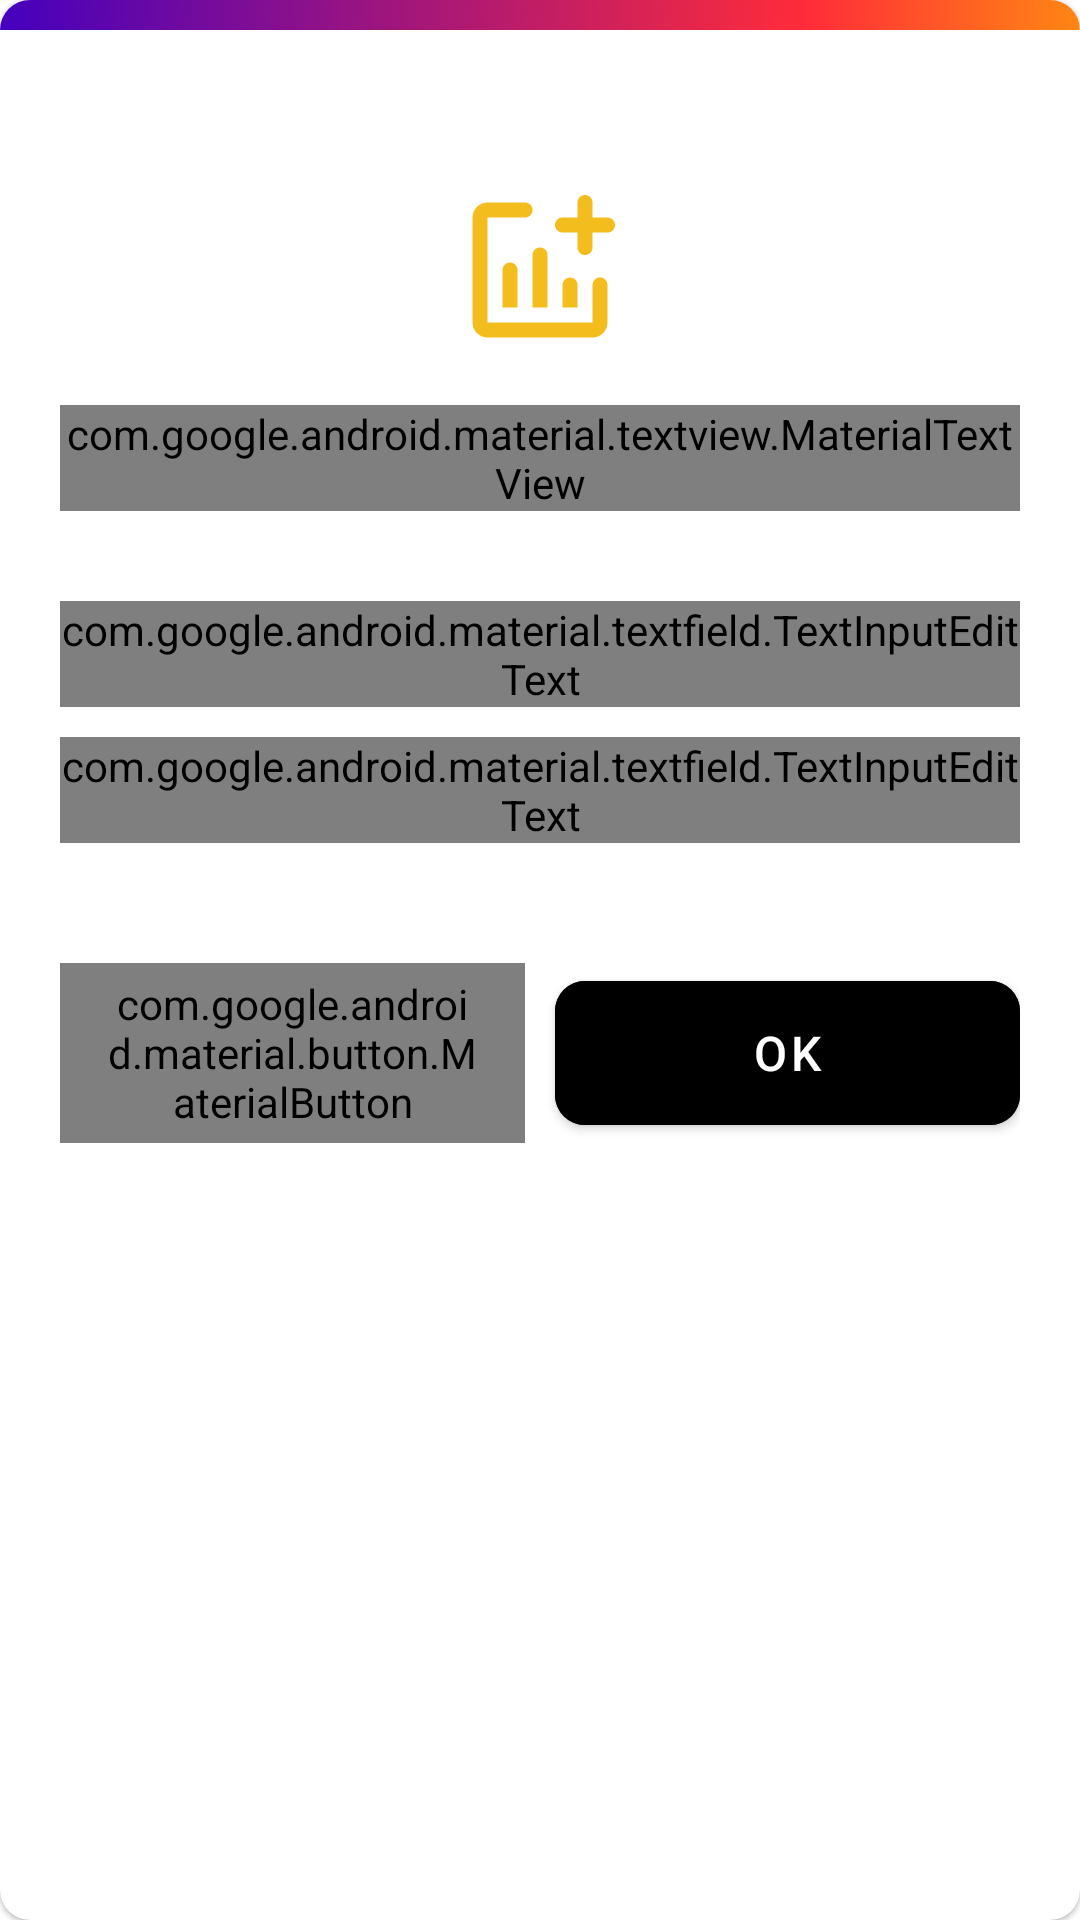

Screen size 1080w x 1920h. Icon name, then its box in pixels as (x1=x1, y1=y1, x2=x2, y2=y2):
add: (x1=472, y1=195, x2=615, y2=338)
